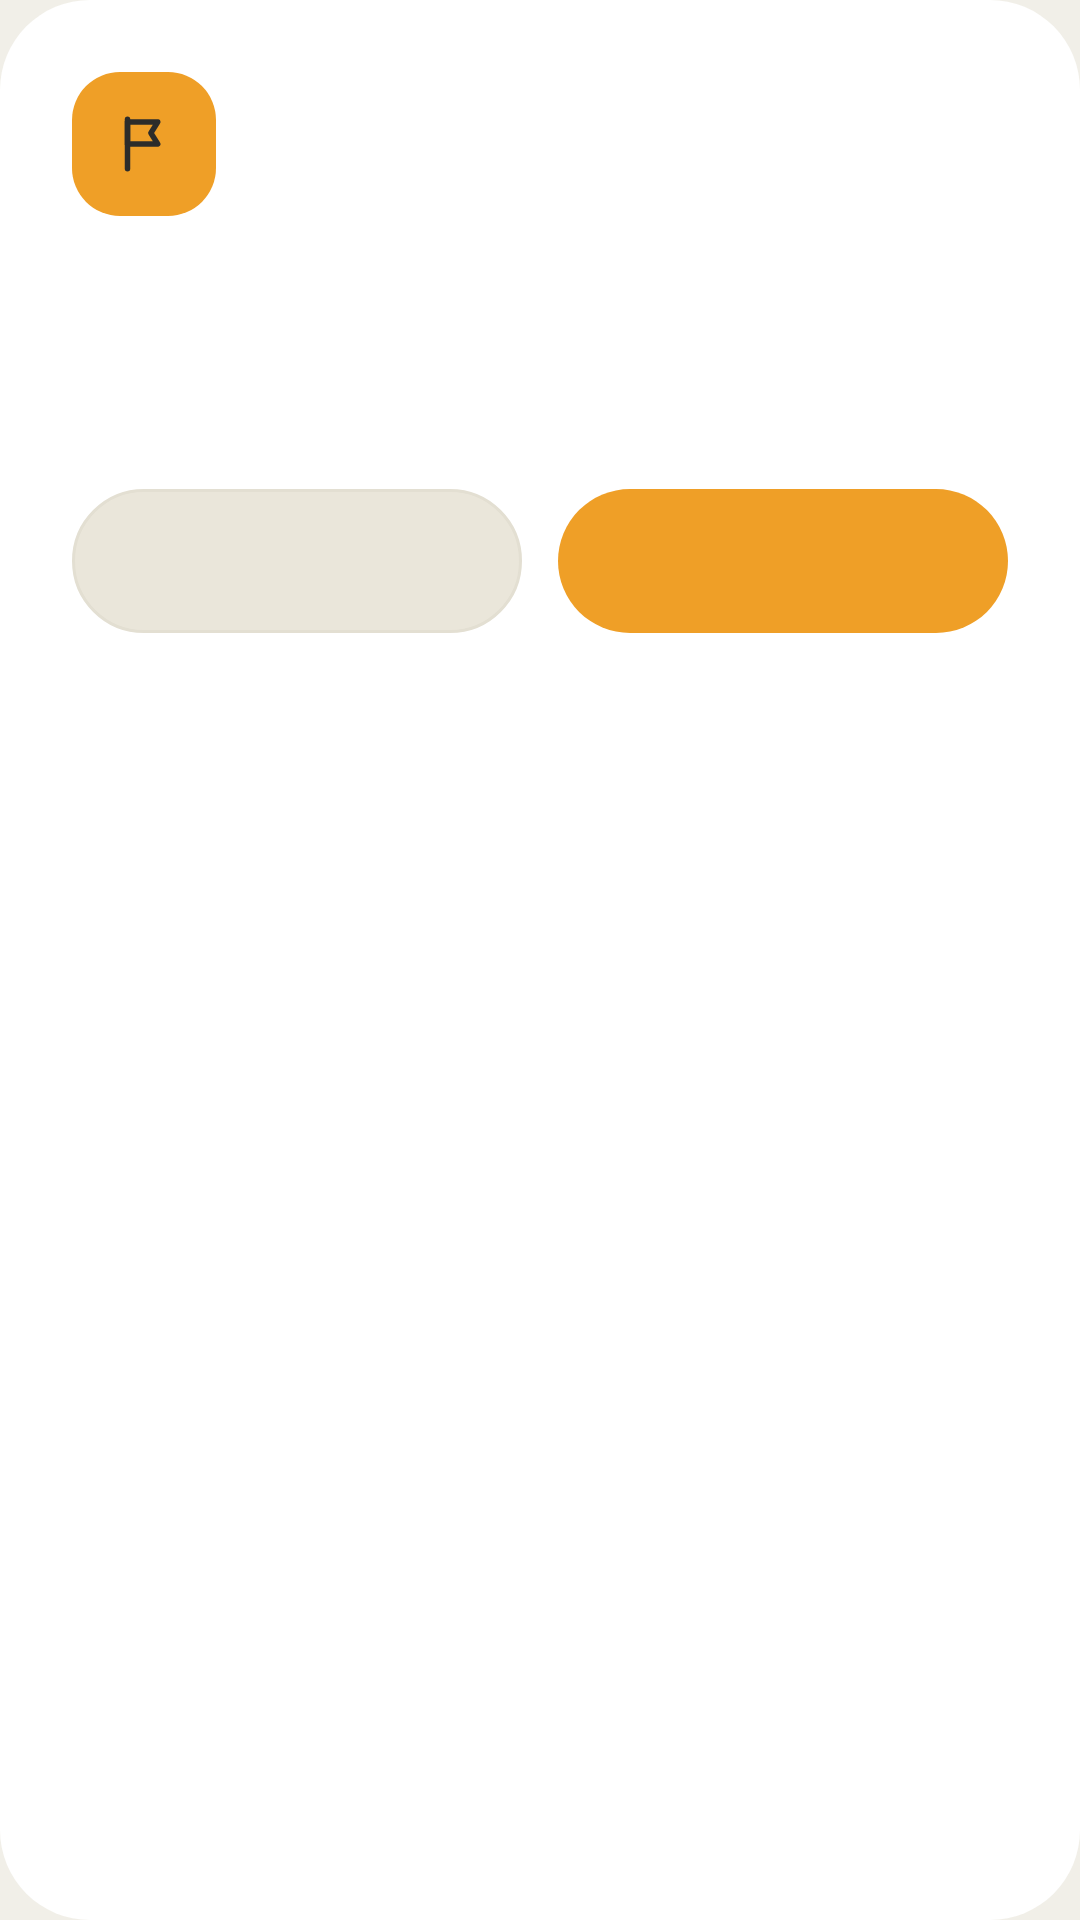

Named icons in this screenshot (1080×1920) and their bounding boxes, {"x1": x1, "y1": y1, "x2": x2, "y2": y2}:
flag: {"x1": 124, "y1": 116, "x2": 161, "y2": 172}
